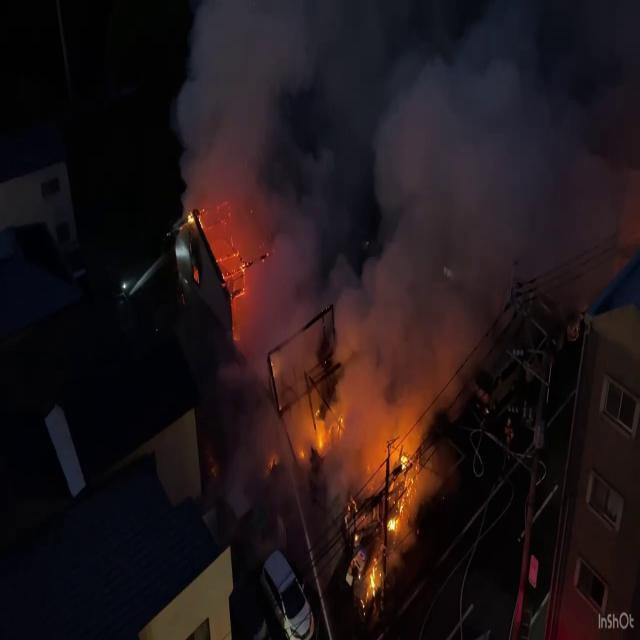Fire: (348, 421, 427, 618)
Smoke: (168, 0, 640, 426)
